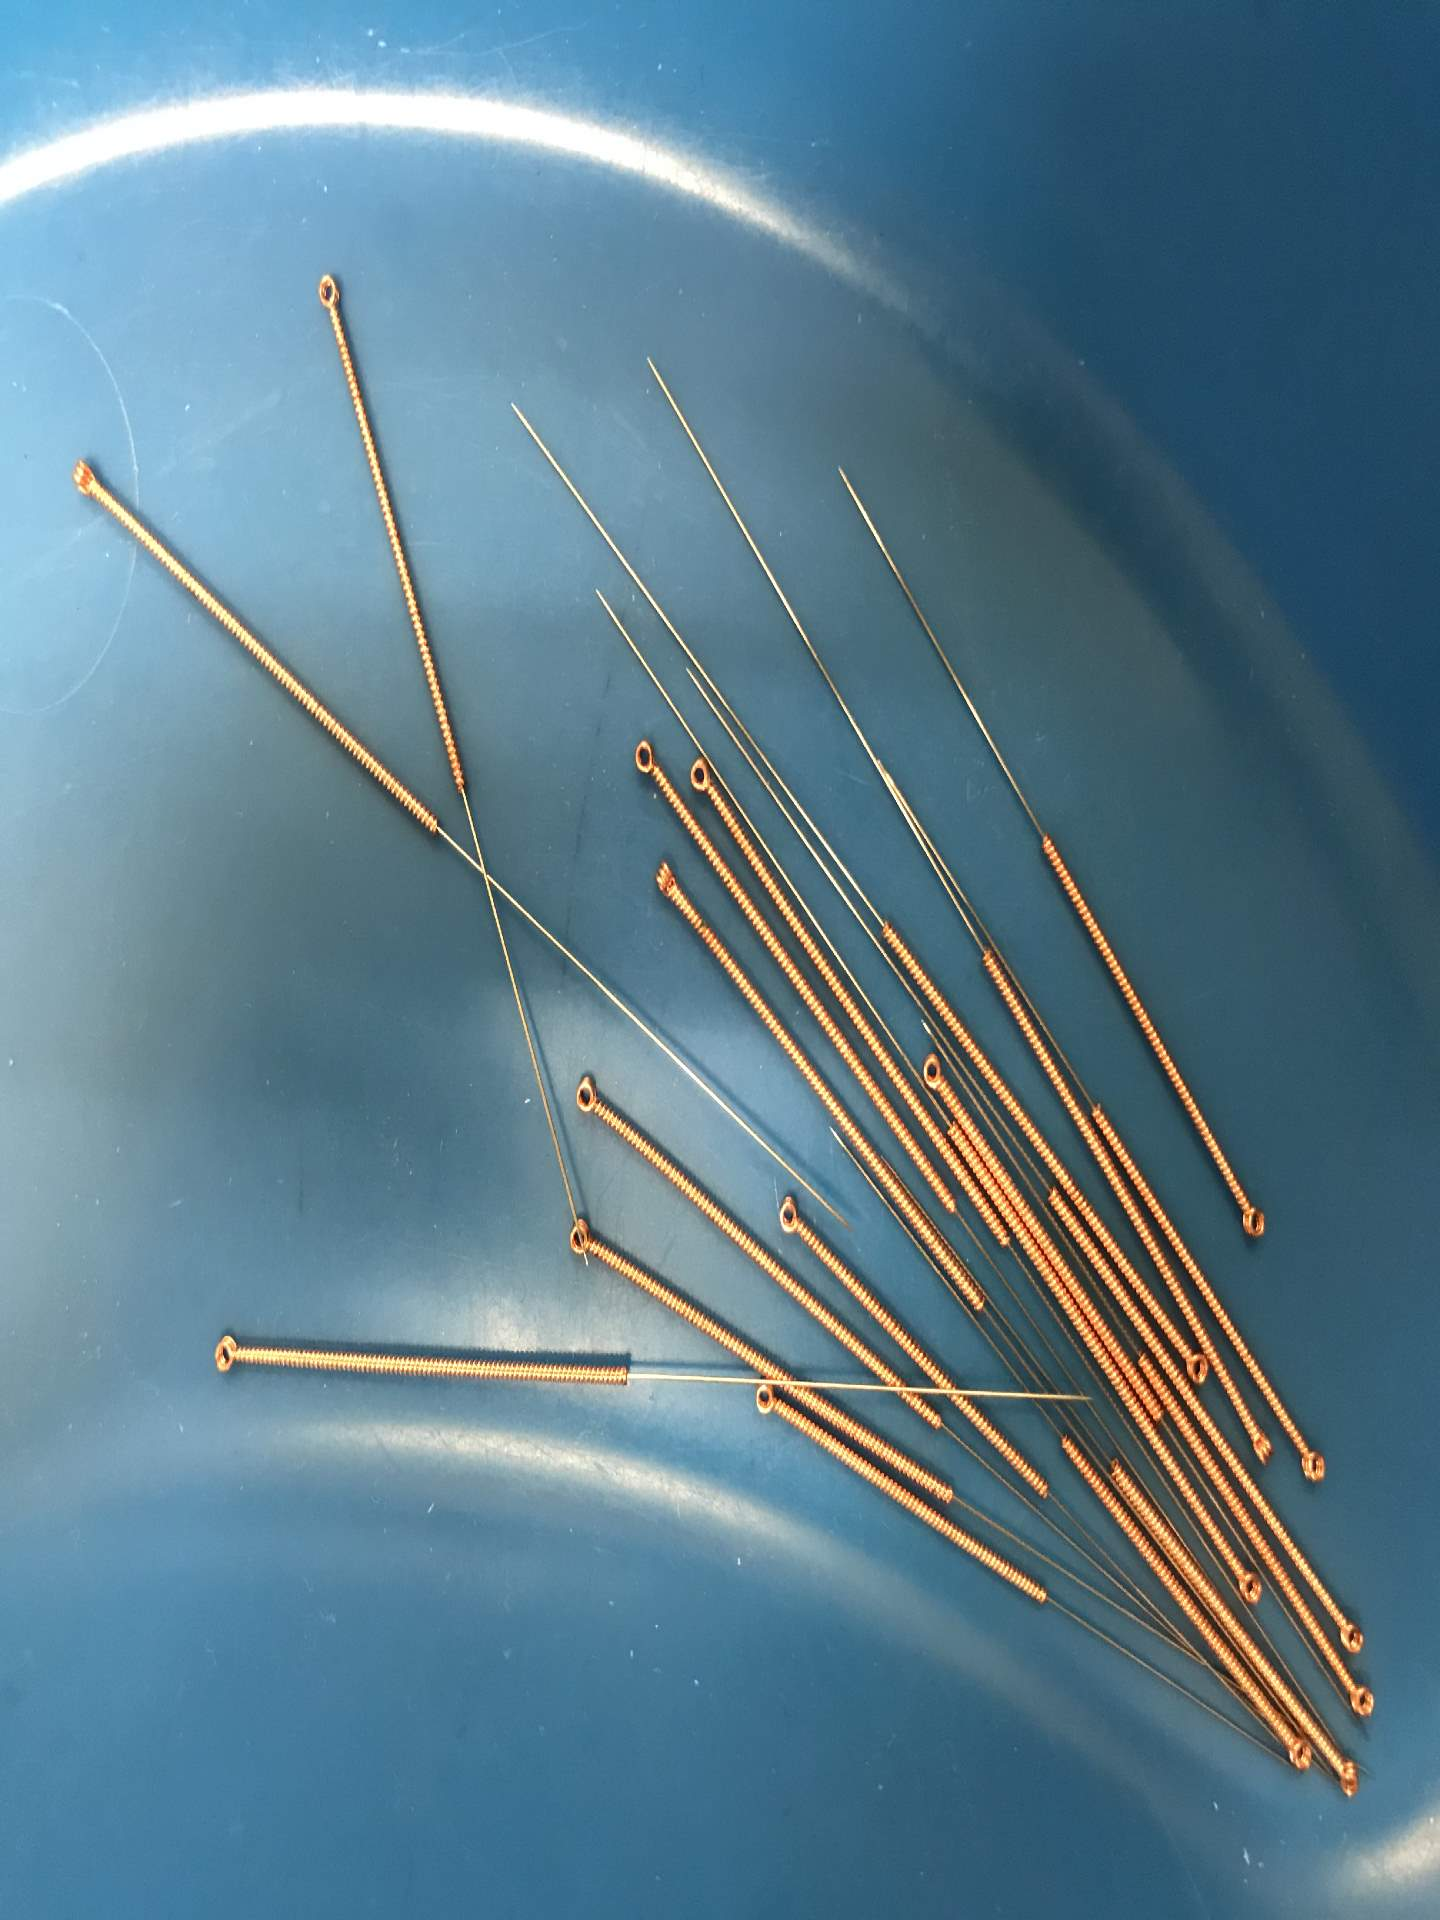needle: (299, 265, 354, 321), (201, 1326, 254, 1383), (557, 1212, 608, 1268), (57, 451, 110, 503), (563, 1067, 611, 1123), (623, 729, 666, 785), (767, 1190, 811, 1241), (681, 750, 722, 804), (1289, 1442, 1334, 1489), (1339, 1677, 1383, 1725), (1325, 1755, 1367, 1805), (643, 853, 684, 904), (1234, 1194, 1272, 1244), (914, 1048, 951, 1098), (1230, 1563, 1268, 1612), (1242, 1426, 1280, 1471), (1277, 1736, 1314, 1779), (1334, 1610, 1367, 1655), (746, 1380, 779, 1424), (1181, 1349, 1212, 1388)
